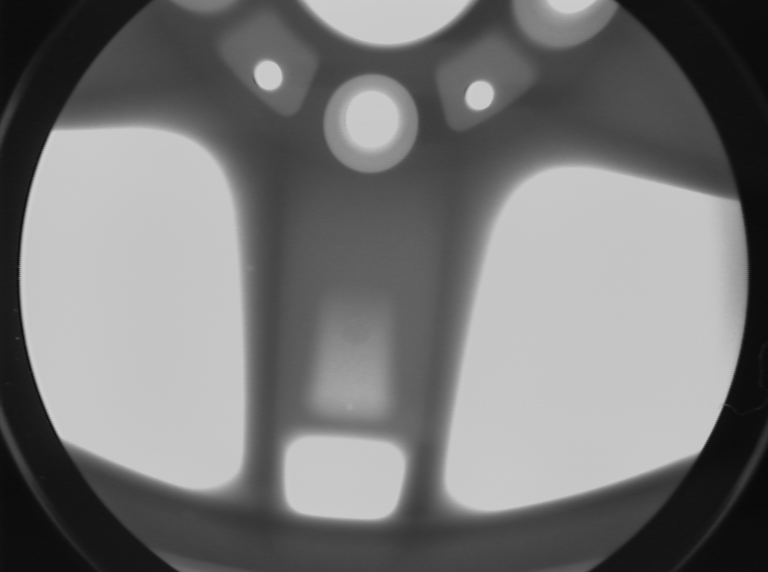defect: (244, 260, 261, 277)
